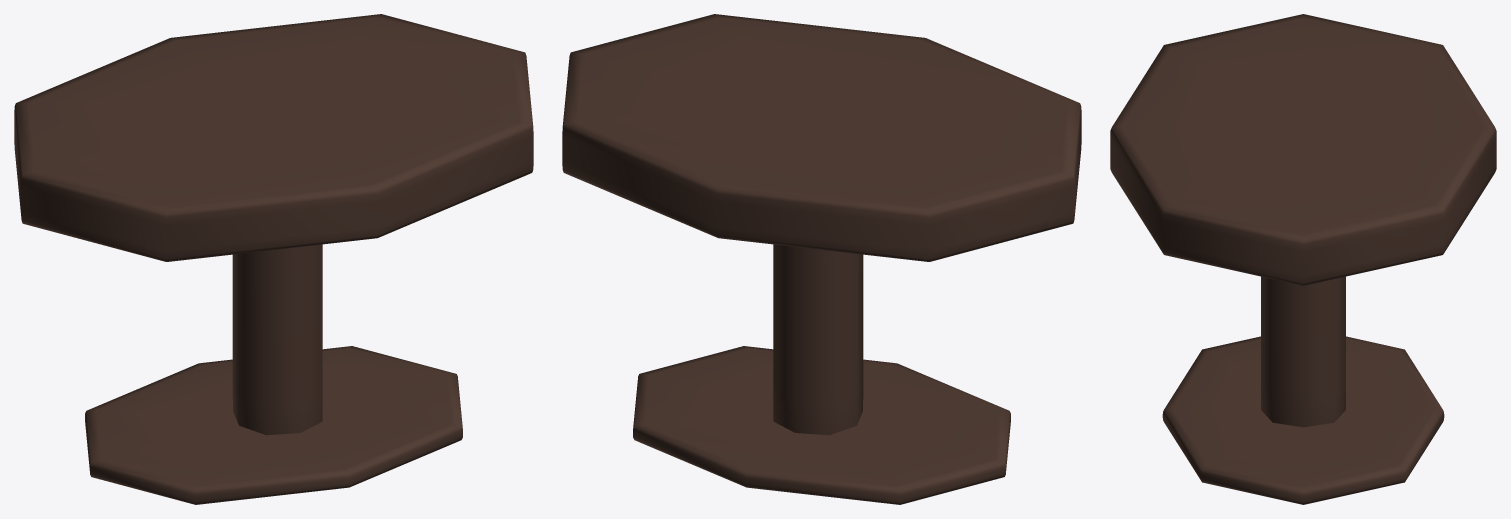
Rendered from table1.fbx.
3 views of the same model, side by side, from view 1: azimuth 30°, elevation 25°; view 2: azimuth 150°, elevation 25°; view 3: azimuth 270°, elevation 25° (orthographic). The views are drawn at different scales.
Visible parts, largest first — view 1: table1; view 2: table1; view 3: table1.
Boxes of the visible parts, x1,y1,x2,y2 form: table1: (14, 14, 533, 504); table1: (562, 14, 1081, 504); table1: (1110, 14, 1496, 504).
Bounding box in the file's own units: 464 × 284 × 332.
